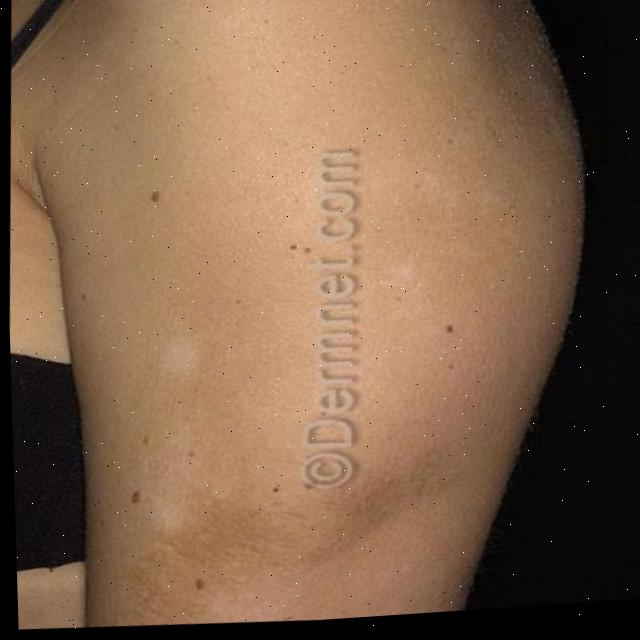Eczema: (104, 206, 409, 614)
